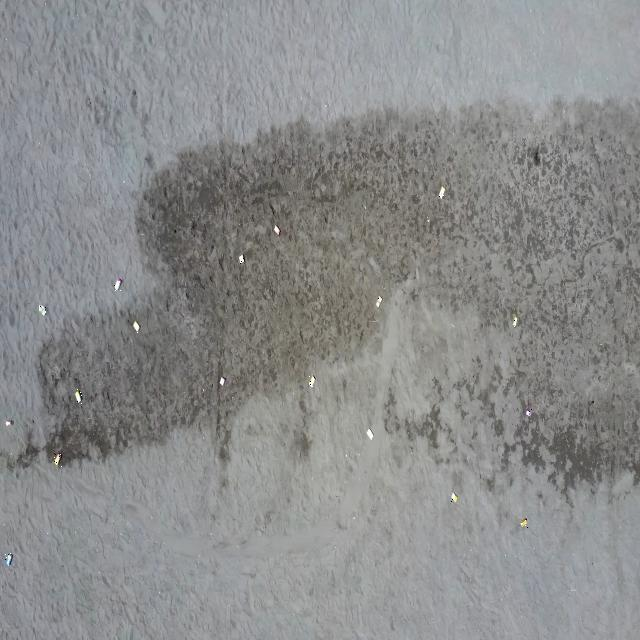Garbage: (4, 552, 12, 566), (52, 452, 60, 466), (116, 276, 123, 291), (37, 303, 45, 316), (511, 311, 517, 327), (307, 375, 315, 387), (272, 224, 280, 235), (524, 404, 532, 415), (449, 492, 457, 503), (132, 320, 139, 332), (375, 296, 382, 307), (520, 516, 527, 527), (75, 388, 80, 403), (367, 427, 372, 439), (439, 186, 444, 198), (4, 419, 12, 426), (238, 253, 243, 263), (220, 375, 224, 386)
